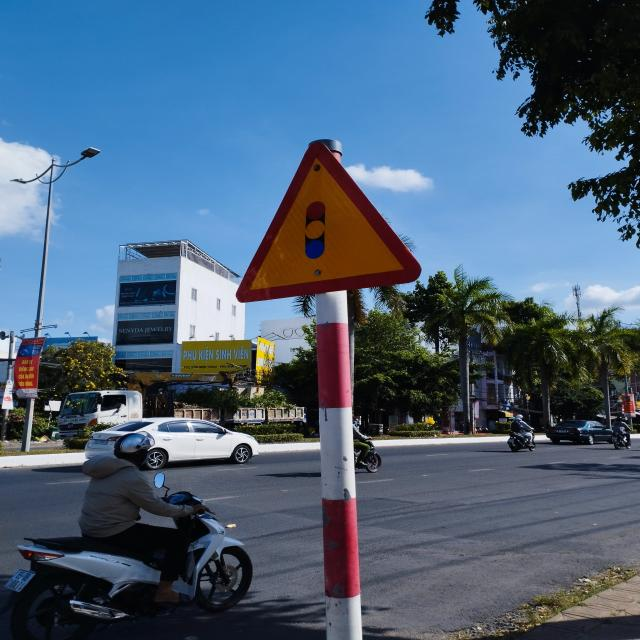Duong_Co_Go_Giam_Toc: (235, 140, 421, 303)
